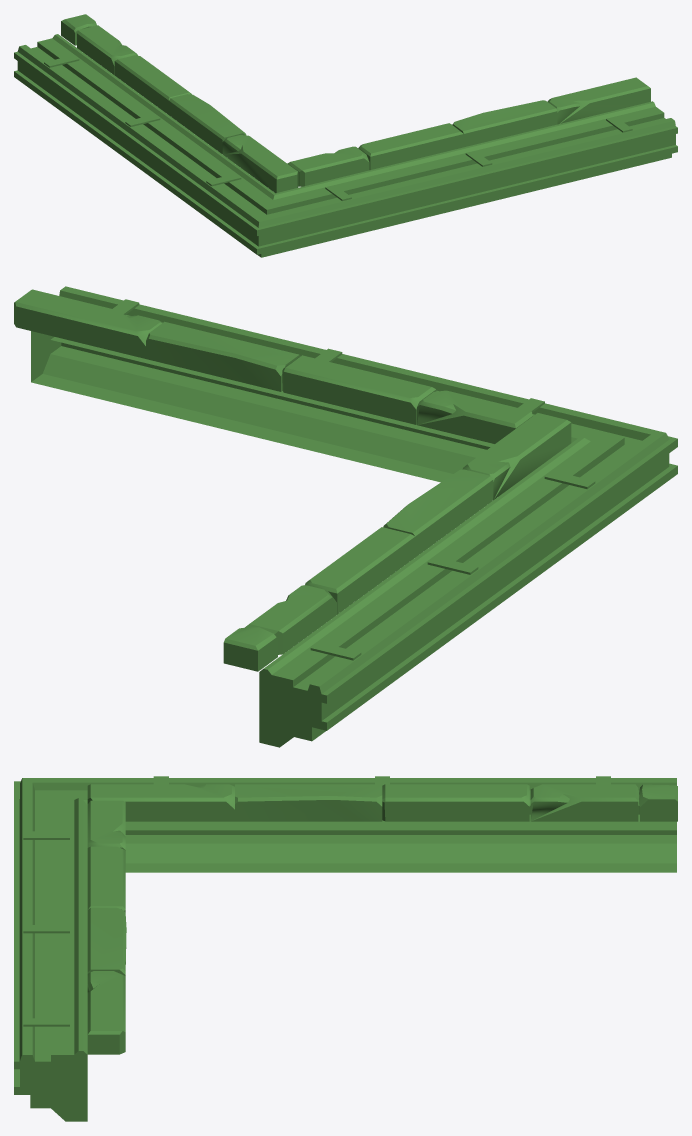
The model's file is parapet top corner lod0.FBX.
The picture shows the model from 3 angles, top to bottom: view 1: azimuth 30°, elevation 25°; view 2: azimuth 150°, elevation 25°; view 3: azimuth 270°, elevation 25°; orthographic projection. The views are drawn at different scales.
Visible parts, largest first — view 1: Object353; view 2: Object353; view 3: Object353.
Boxes of the visible parts, x1,y1,x2,y2 form: Object353: (14, 14, 677, 257); Object353: (14, 286, 677, 747); Object353: (14, 776, 677, 1121).
Size of the model in its own units: 4.5 by 0.6875 by 4.51.
